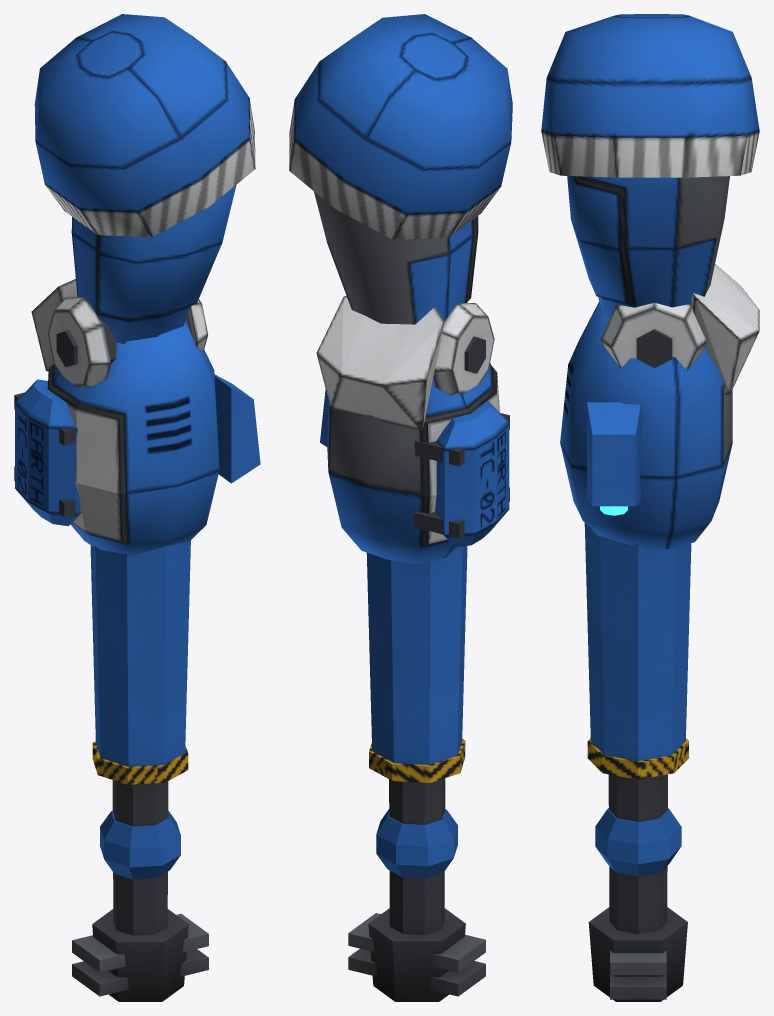
File: LeftTankCannonArmX.glb
3 renders of one model, left to right at view 1: azimuth 30°, elevation 25°; view 2: azimuth 150°, elevation 25°; view 3: azimuth 270°, elevation 25°, orthographic. The views are drawn at different scales.
Parts seen in each view (by area): view 1: LeftTankCannonArmX_Fore, LeftTankCannonArmX_Upper; view 2: LeftTankCannonArmX_Fore, LeftTankCannonArmX_Upper; view 3: LeftTankCannonArmX_Fore, LeftTankCannonArmX_Upper.
Part boxes in pixels (x1,y1,x2,y2): LeftTankCannonArmX_Fore: (14, 279, 260, 1001); LeftTankCannonArmX_Upper: (34, 14, 255, 344); LeftTankCannonArmX_Fore: (316, 295, 509, 1001); LeftTankCannonArmX_Upper: (289, 14, 512, 324); LeftTankCannonArmX_Fore: (560, 264, 759, 1001); LeftTankCannonArmX_Upper: (541, 14, 759, 315).
Size of the model in its own units: 4.39 by 19.9 by 4.05.
7 materials, 6 textured.
